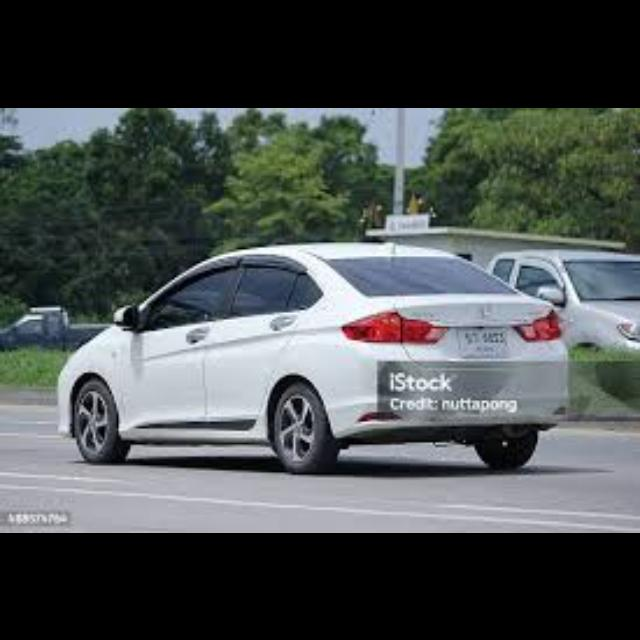vehicles: (46, 232, 592, 480), (487, 246, 638, 352)
